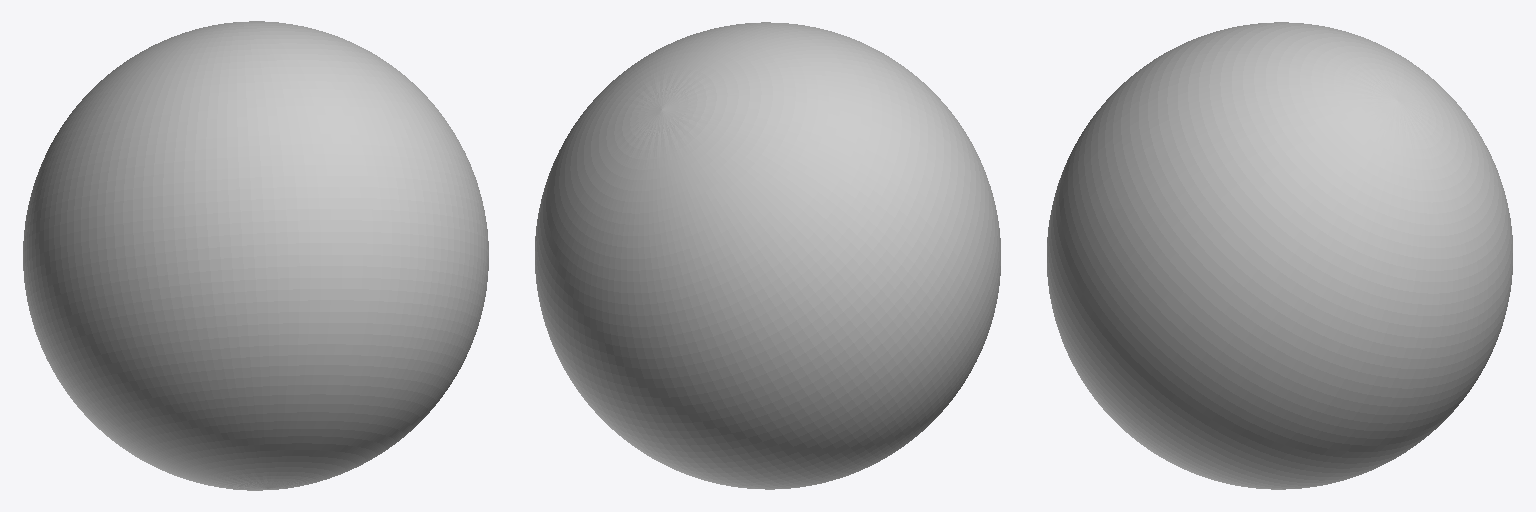
File: saturn.obj
The picture shows the model from 3 angles: view 1: azimuth 30°, elevation 25°; view 2: azimuth 150°, elevation 25°; view 3: azimuth 270°, elevation 25°; orthographic projection.
Parts seen in each view (by area): view 1: Saturn; view 2: Saturn; view 3: Saturn.
Part boxes in pixels (bbox=[...]): Saturn: bbox=[23, 21, 488, 490]; Saturn: bbox=[535, 22, 1000, 489]; Saturn: bbox=[1047, 22, 1512, 489].
Size of the model in its own units: 3.88 by 3.9 by 3.89.